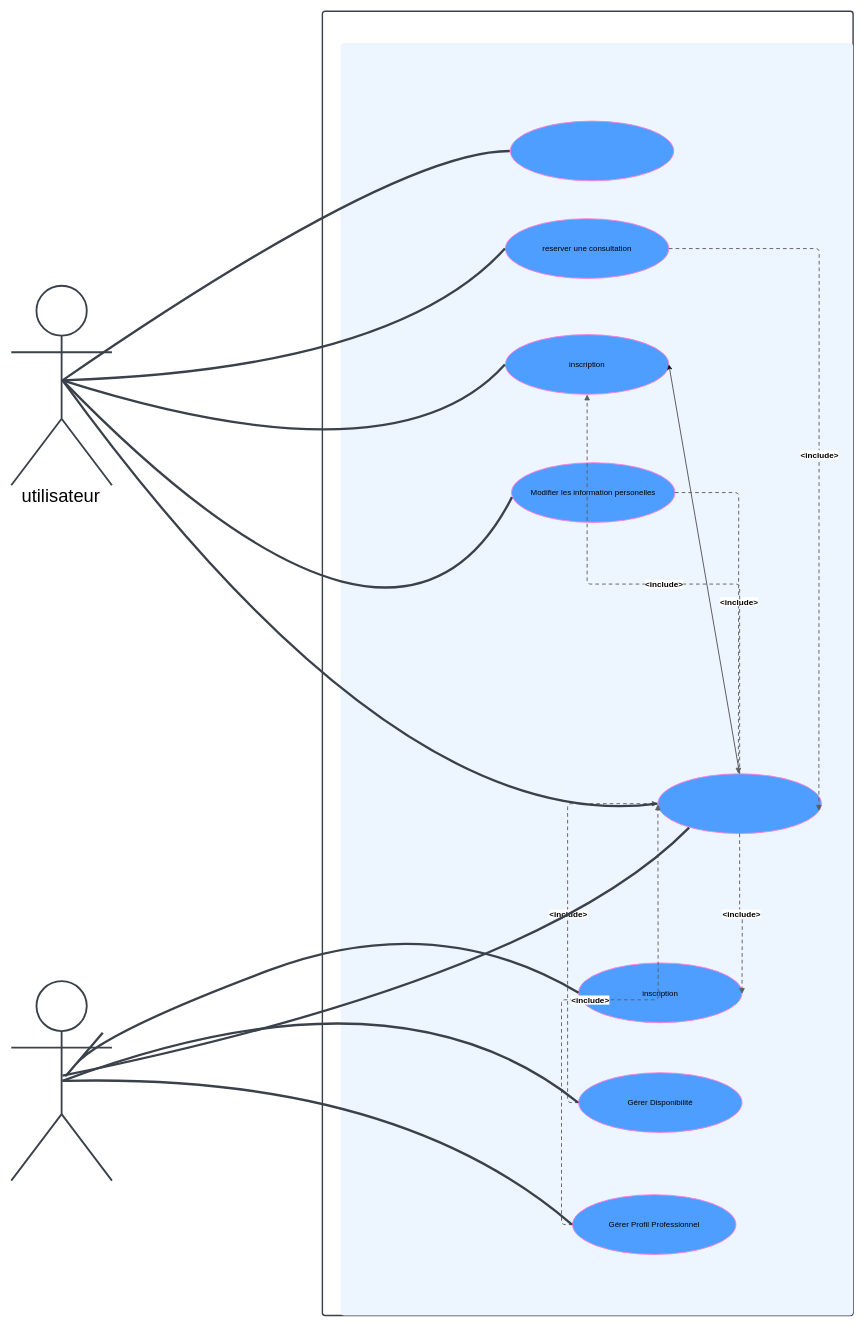
This 864x1327 diagram has some shape labels left out. Each missing label, with the centre of its shape:
"Avocat" belongs at point (61, 1080).
"Connexion" belongs at point (739, 803).
"Découvrir les Avocat" belongs at point (592, 150).
